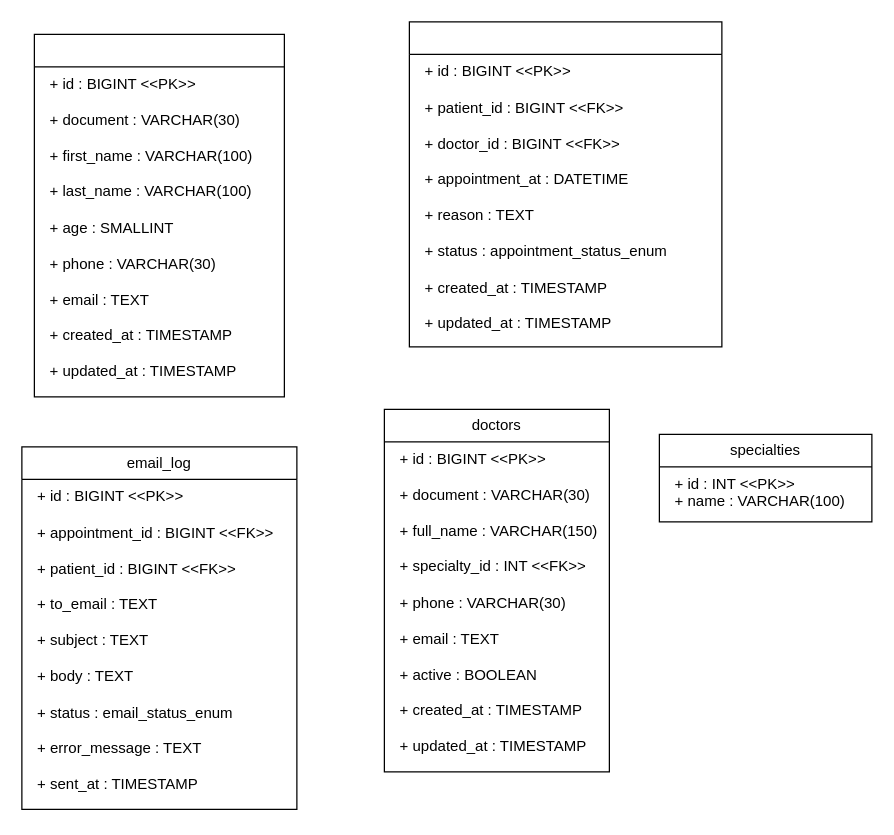
This 894x835 diagram has some shape labels left out. The box of each missing label's shape, as (x1, y1, x2, y2) in pixels:
appoitments: (408, 21, 722, 347)
patient: (33, 33, 284, 397)
